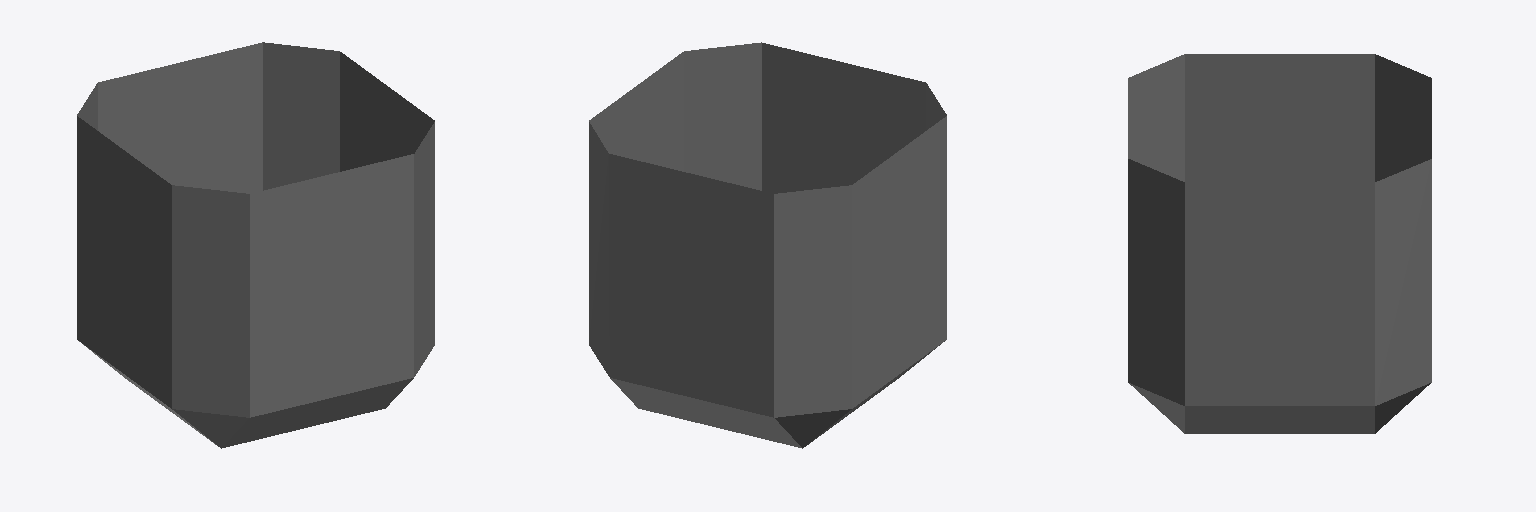
Rendered from pillar_bottom.obj.
The picture shows the model from 3 angles: view 1: azimuth 30°, elevation 25°; view 2: azimuth 150°, elevation 25°; view 3: azimuth 270°, elevation 25°; orthographic projection.
Size of the model in its own units: 1 by 1 by 1.